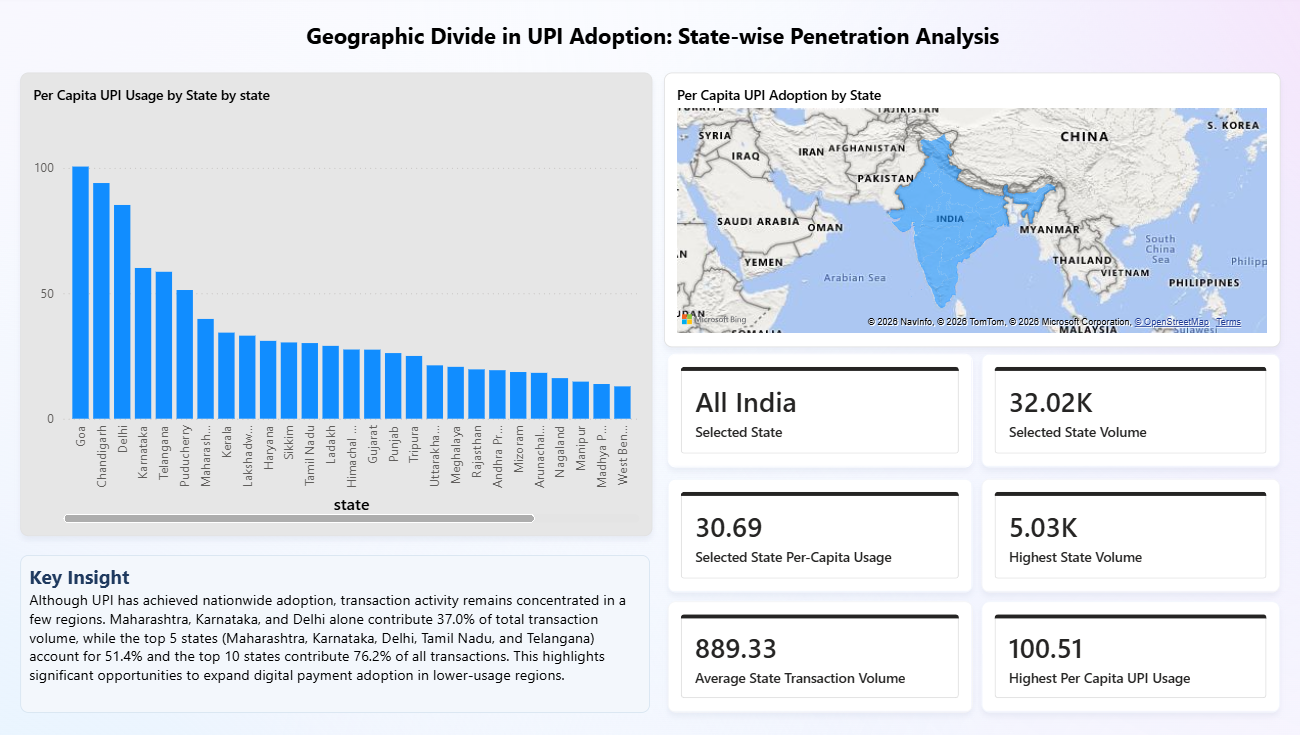

This screenshot's page, from the dashboard's own definition file:
{"tool":"powerbi","page":{"name":"Geographic Adoption Analysis","canvas":[1280,720],"ordinal":2},"visuals":[{"type":"textbox","box":[287.4,14.7,704.4,42.8],"z":0},{"type":"filledMap","title":"Per Capita UPI Adoption by State","fields":{"Category":["State Volumes.state"]},"box":[650.1,71.2,602.9,269],"z":1000},{"type":"cardVisual","fields":{"Data":["State Volumes.Top State Volume"]},"box":[960.7,468.6,292.3,111.3],"z":2000},{"type":"cardVisual","fields":{"Data":["State Volumes.Avg State Volume"]},"box":[653.7,588.4,298.4,108.8],"z":3000},{"type":"cardVisual","fields":{"Data":["State Volumes.Max Per Capita"]},"box":[960.7,588.4,292.3,108.8],"z":4000},{"type":"columnChart","fields":{"Y":["Avg(State Volumes.Per Capita Volume)"],"Category":["State Volumes.state"]},"box":[20.3,71.2,618.8,453.7],"z":5000},{"type":"cardVisual","fields":{"Data":["State Volumes.Selected State"]},"box":[653.7,346.3,298.4,111.3],"z":6000},{"type":"cardVisual","fields":{"Data":["State Volumes.Selected State Volume"]},"box":[960.7,346.3,292.3,111.3],"z":7000},{"type":"cardVisual","fields":{"Data":["State Volumes.Selected State Per Capita"]},"box":[653.7,468.6,298.4,111.3],"z":8000},{"type":"textbox","box":[20.3,543.2,616.3,154.1],"z":9000}]}

Visuals, with their boxes in screenshot pixels (x1, y1, x2, y2), scaled from the page's 1280x720 canvas onto the 1300x735 screenshot:
textbox: 292 15 1007 59
"Per Capita UPI Adoption by State" filledMap: 660 73 1273 347
cardVisual - State Volumes.Top State Volume: 976 478 1273 592
cardVisual - State Volumes.Avg State Volume: 664 601 967 712
cardVisual - State Volumes.Max Per Capita: 976 601 1273 712
columnChart - Avg(State Volumes.Per Capita Volume) x State Volumes.state: 21 73 649 536
cardVisual - State Volumes.Selected State: 664 354 967 467
cardVisual - State Volumes.Selected State Volume: 976 354 1273 467
cardVisual - State Volumes.Selected State Per Capita: 664 478 967 592
textbox: 21 555 647 712
